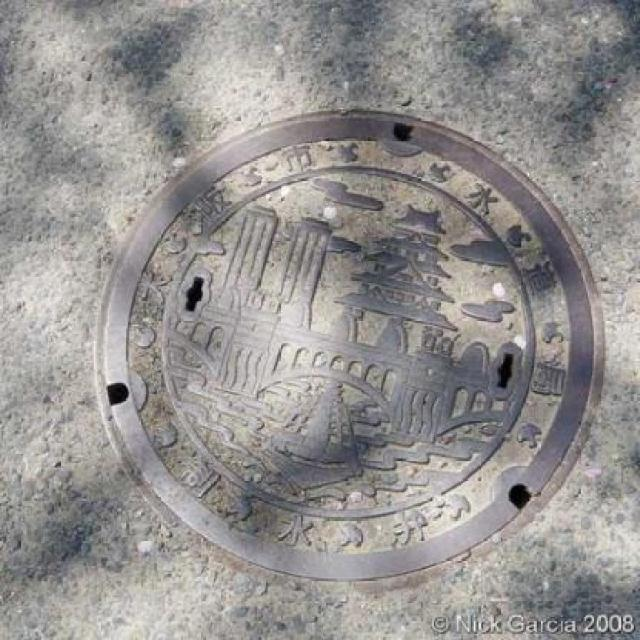Manhole: (74, 90, 616, 595)
